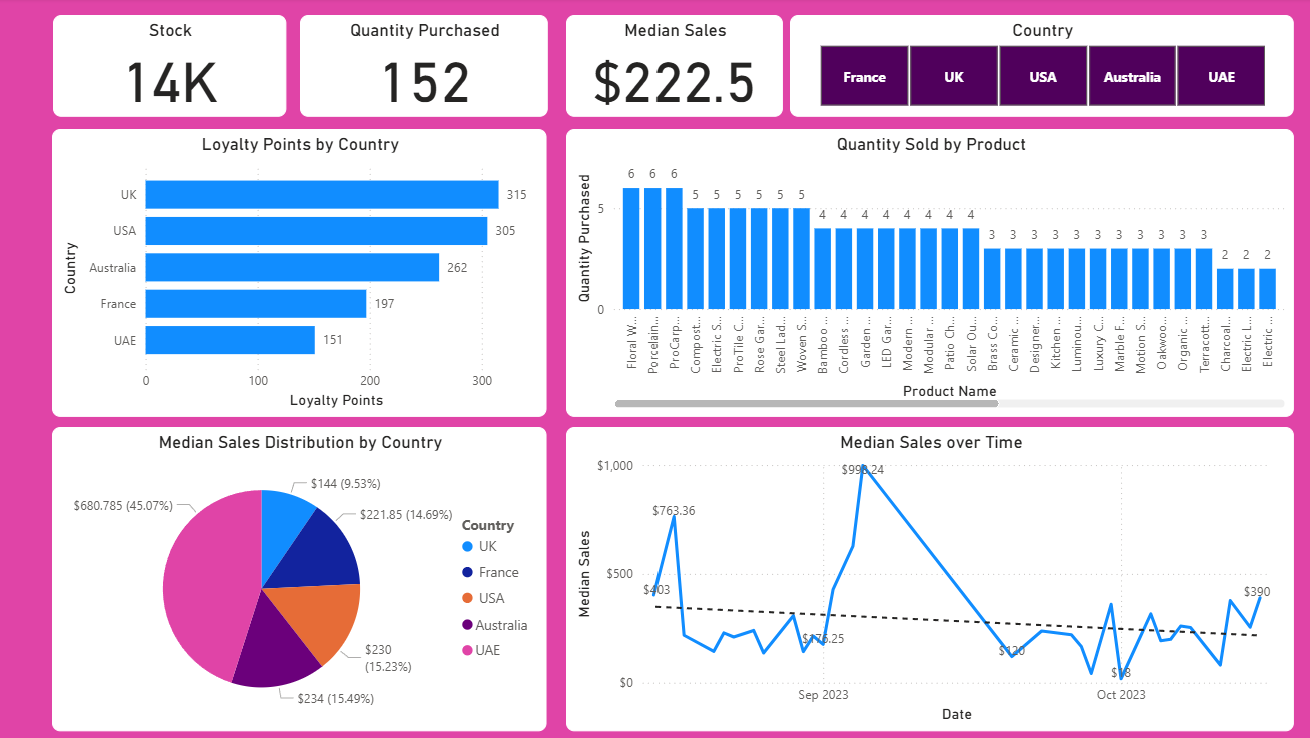

What the dashboard file says about the page in this screenshot:
{"tool":"powerbi","page":{"name":"Sales Overview","canvas":[1280,720],"ordinal":0},"visuals":[{"type":"clusteredBarChart","title":"Loyalty Points by Country","fields":{"Y":["Sum(Sales in USD.Loyalty Points)"],"Category":["Countries.Country"]},"box":[51.6,127.4,481.5,280.1],"z":0},{"type":"clusteredColumnChart","title":"Quantity Sold by Product","fields":{"Y":["Sum(Sales in USD.Quantity Purchased)"],"Category":["Sales in USD.Product Name"]},"box":[550.5,127.4,707.1,280.1],"z":1000},{"type":"pieChart","title":"Median Sales Distribution by Country","fields":{"Category":["Countries.Country"],"Y":["Sales in USD.Median Sales"]},"box":[50.6,417.3,481.5,295.7],"z":2000},{"type":"lineChart","title":"Median Sales over Time","fields":{"Y":["Sales in USD.Median Sales"],"Category":["CalendarTable.Date"]},"box":[550.5,417.3,707.1,295.7],"z":3000},{"type":"card","title":"Stock","fields":{"Values":["Sum(Sales in USD. Stock  )"]},"box":[51.6,16.5,226.6,99.2],"z":4000},{"type":"card","title":"Quantity Purchased","fields":{"Values":["Sum(Sales in USD.Quantity Purchased)"]},"box":[291.8,16.5,241.2,99.2],"z":5000},{"type":"card","title":"Median Sales","fields":{"Values":["Sales in USD.Median Sales"]},"box":[550.5,16.5,210.1,99.2],"z":6000},{"type":"slicer","title":"Country","fields":{"Values":["Countries.Country"]},"box":[767.4,16.5,490.2,99.2],"z":7000}]}

Visuals, with their boxes in screenshot pixels (x1, y1, x2, y2), scaled from the page's 1280x720 canvas onto the 1310x738 screenshot:
"Loyalty Points by Country" clusteredBarChart: [53,131,546,418]
"Quantity Sold by Product" clusteredColumnChart: [563,131,1287,418]
"Median Sales Distribution by Country" pieChart: [52,428,545,731]
"Median Sales over Time" lineChart: [563,428,1287,731]
"Stock" card: [53,17,285,119]
"Quantity Purchased" card: [299,17,545,119]
"Median Sales" card: [563,17,778,119]
"Country" slicer: [785,17,1287,119]
